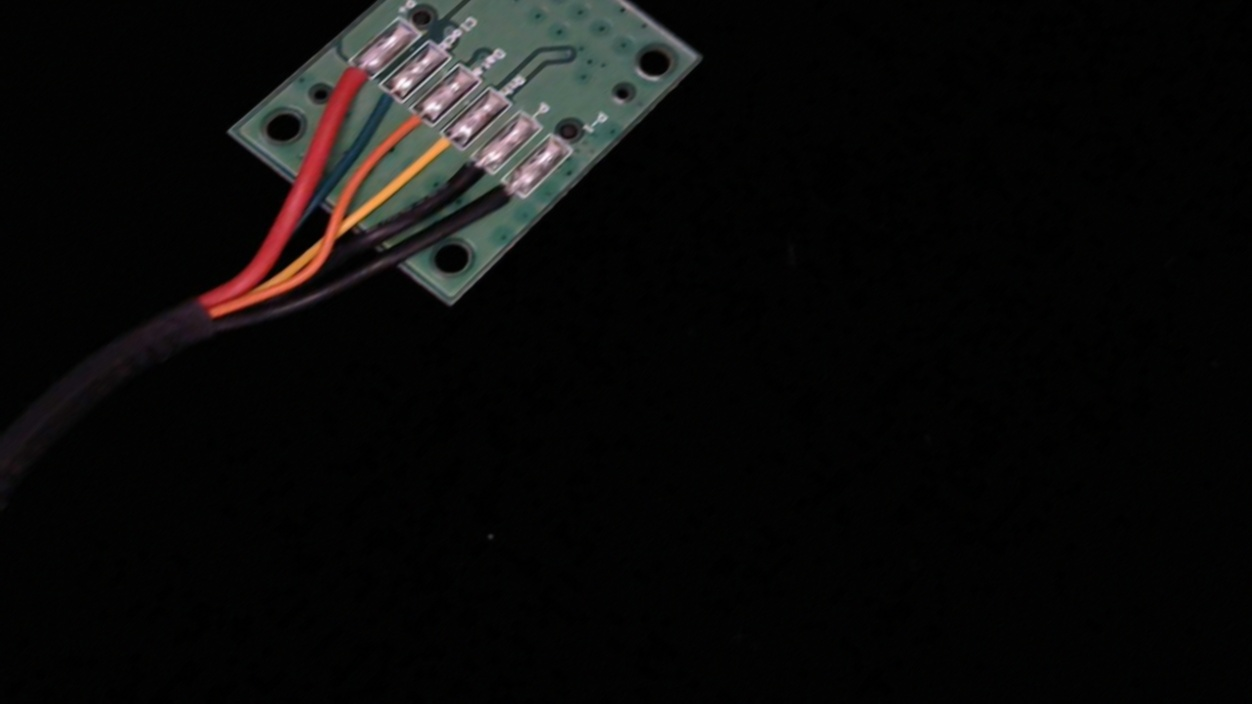Black: (425, 138, 516, 214)
Black1: (460, 162, 544, 234)
Green: (338, 67, 426, 139)
Orange: (365, 91, 453, 164)
Red: (305, 42, 395, 114)
Yellow: (393, 113, 485, 190)
